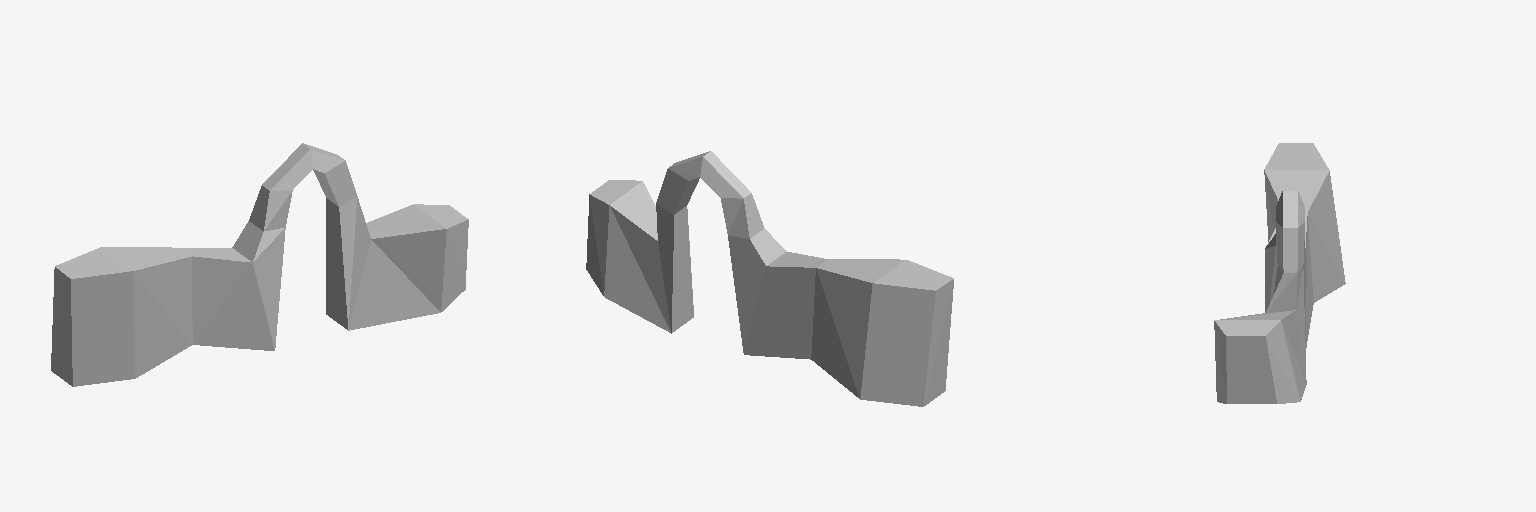
3 renders of one model, left to right at view 1: azimuth 30°, elevation 25°; view 2: azimuth 150°, elevation 25°; view 3: azimuth 270°, elevation 25°, orthographic.
Parts seen in each view (by area): view 1: World1Patch6; view 2: World1Patch6; view 3: World1Patch6.
Part boxes in pixels (x1,y1,x2,y2): World1Patch6: (51, 143, 468, 386); World1Patch6: (586, 151, 953, 406); World1Patch6: (1214, 143, 1345, 403).
Size of the model in its own units: 26 by 12.38 by 7.98.